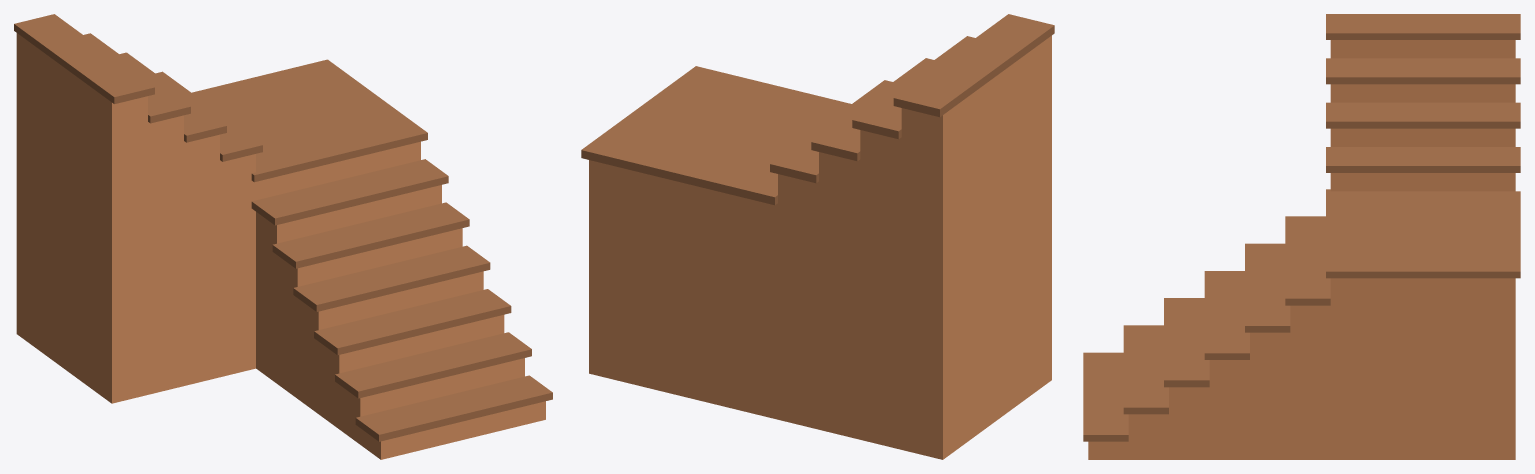
The model's file is StairsTurn.fbx.
3 renders of one model, left to right at view 1: azimuth 30°, elevation 25°; view 2: azimuth 150°, elevation 25°; view 3: azimuth 270°, elevation 25°, orthographic. The views are drawn at different scales.
Parts seen in each view (by area): view 1: stairsCorner; view 2: stairsCorner; view 3: stairsCorner.
Boxes of the visible parts, bbox=[...] form: stairsCorner: bbox=[14, 14, 552, 459]; stairsCorner: bbox=[581, 14, 1054, 459]; stairsCorner: bbox=[1083, 14, 1520, 459].
Bounding box in the file's own units: 14.26 × 13.4 × 17.74.
